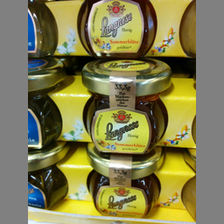honey: (80, 60, 174, 154), (87, 145, 166, 217), (78, 1, 161, 59)
